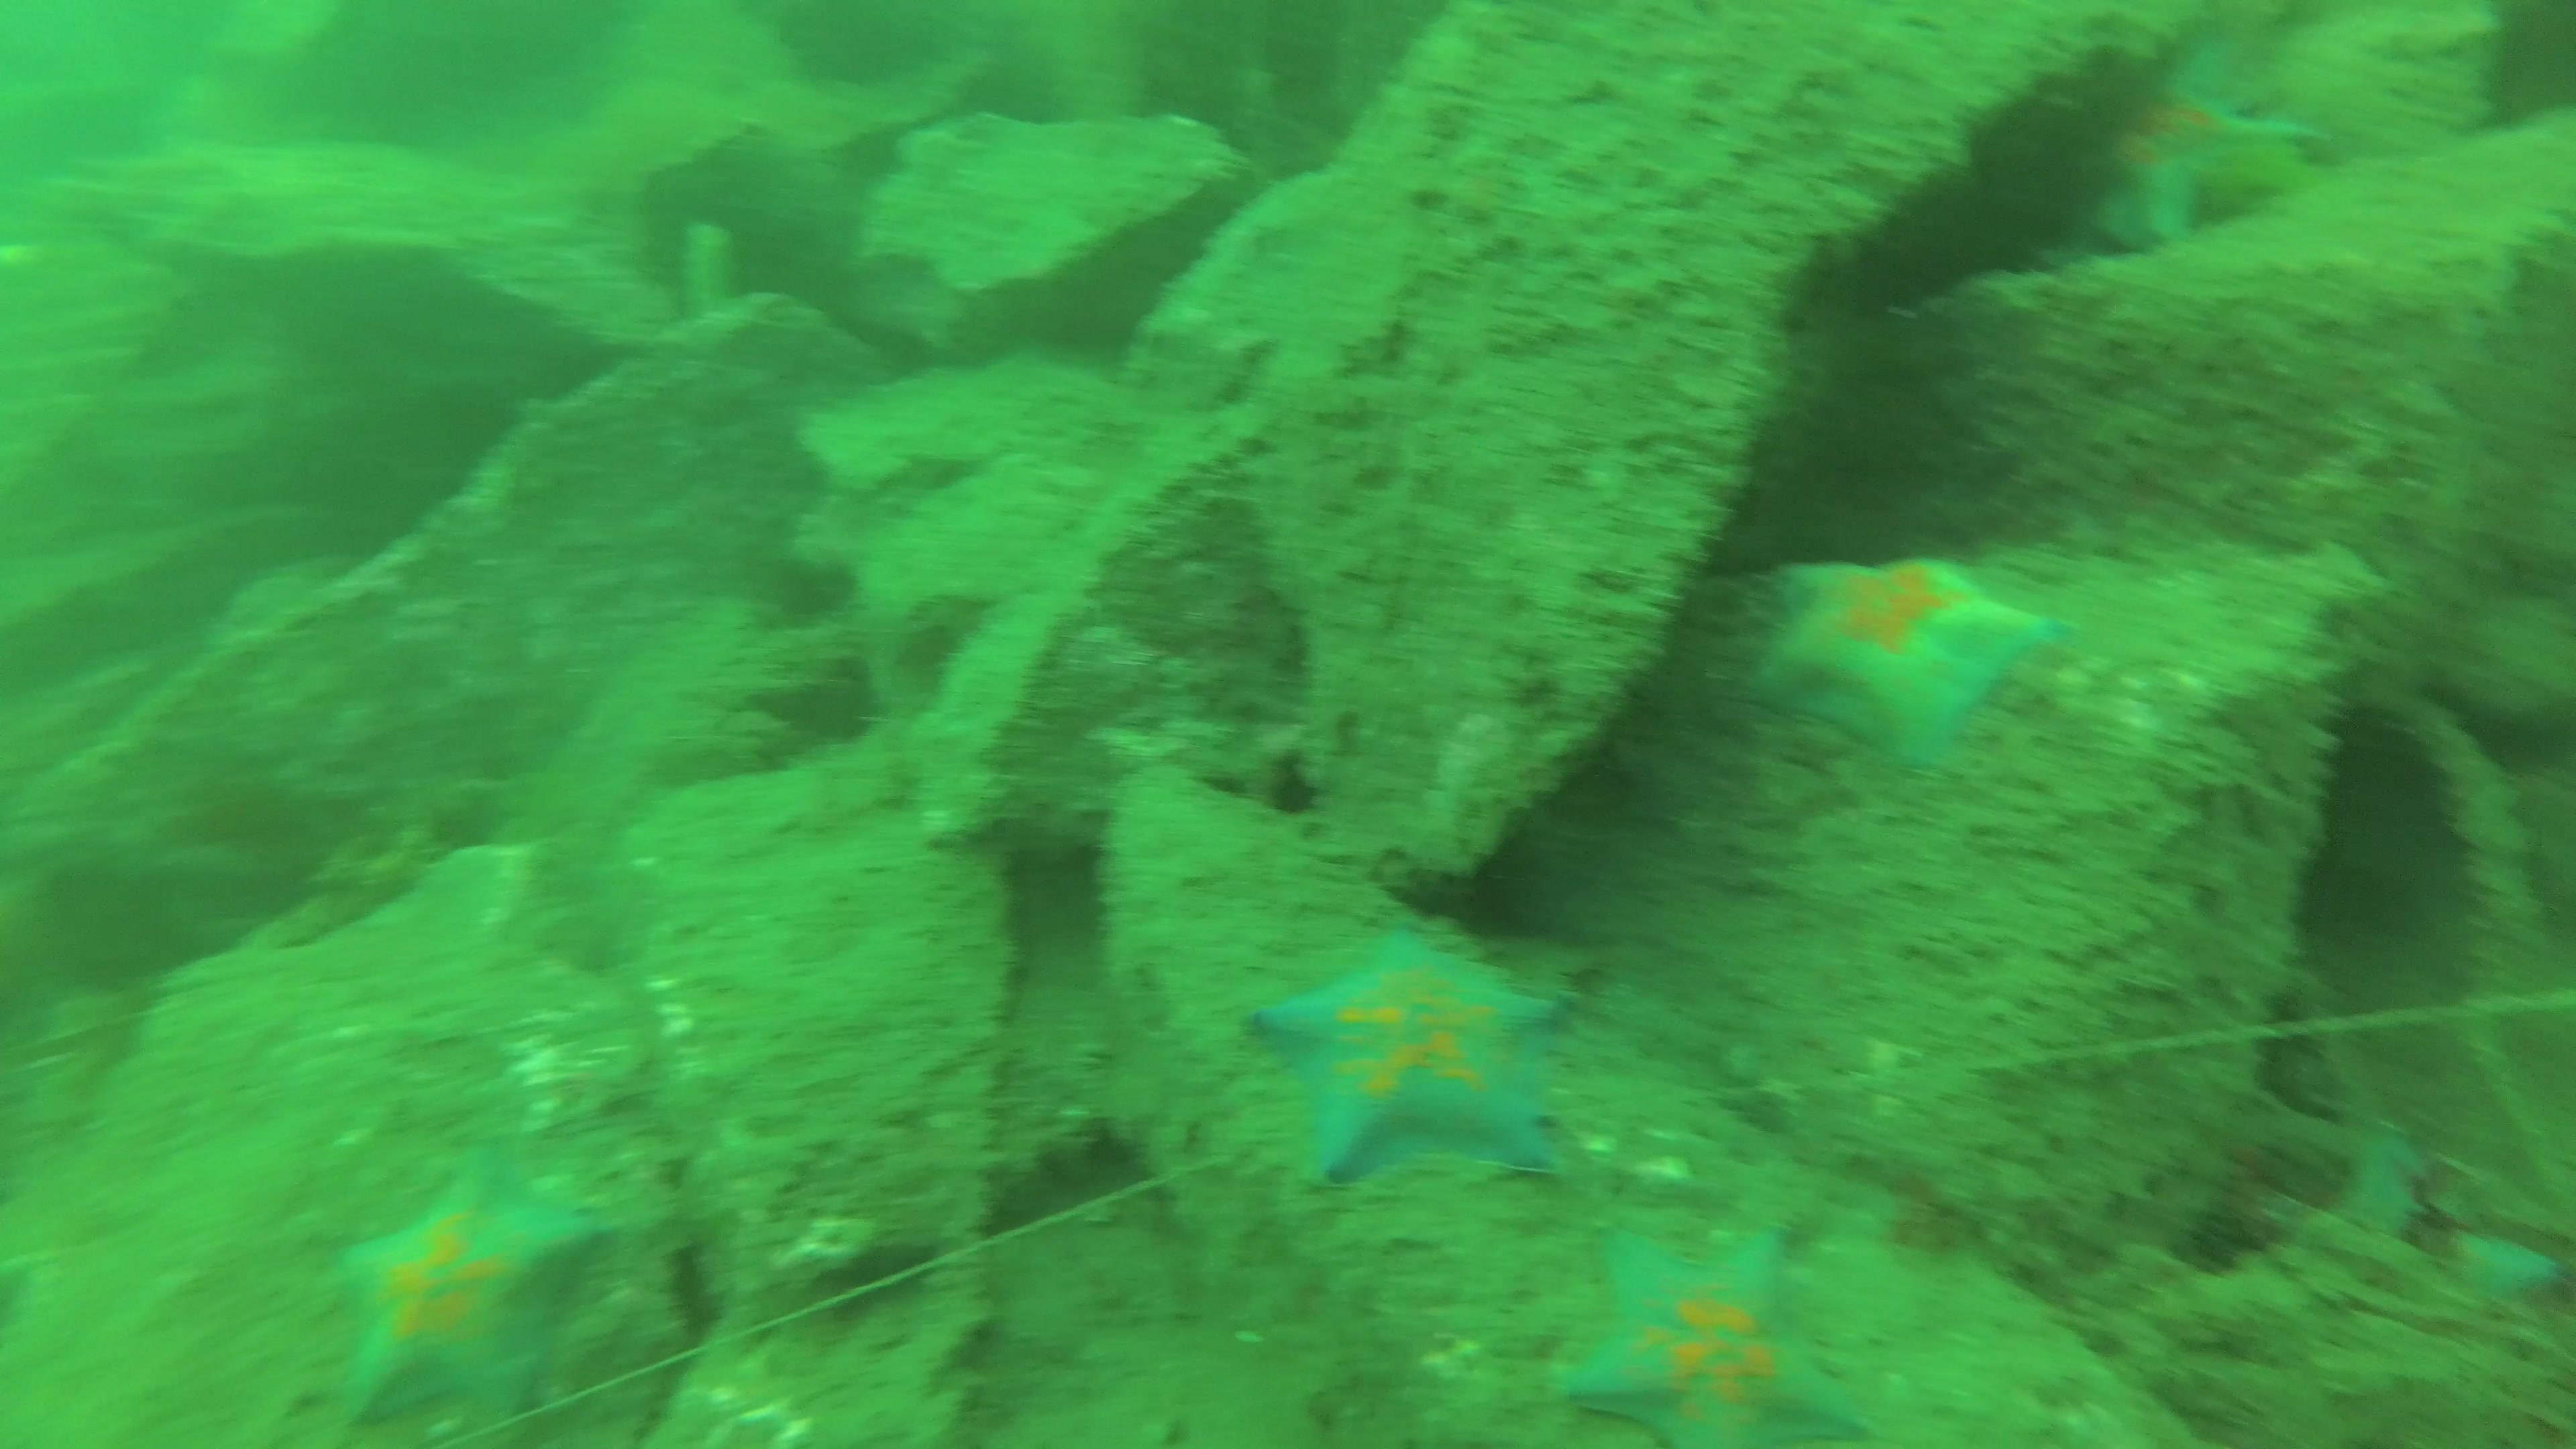starfish: (1238, 904, 1575, 1207), (322, 1162, 625, 1437), (1746, 541, 2084, 780), (1548, 1219, 1881, 1449), (2065, 30, 2337, 260), (2309, 1116, 2576, 1311)
